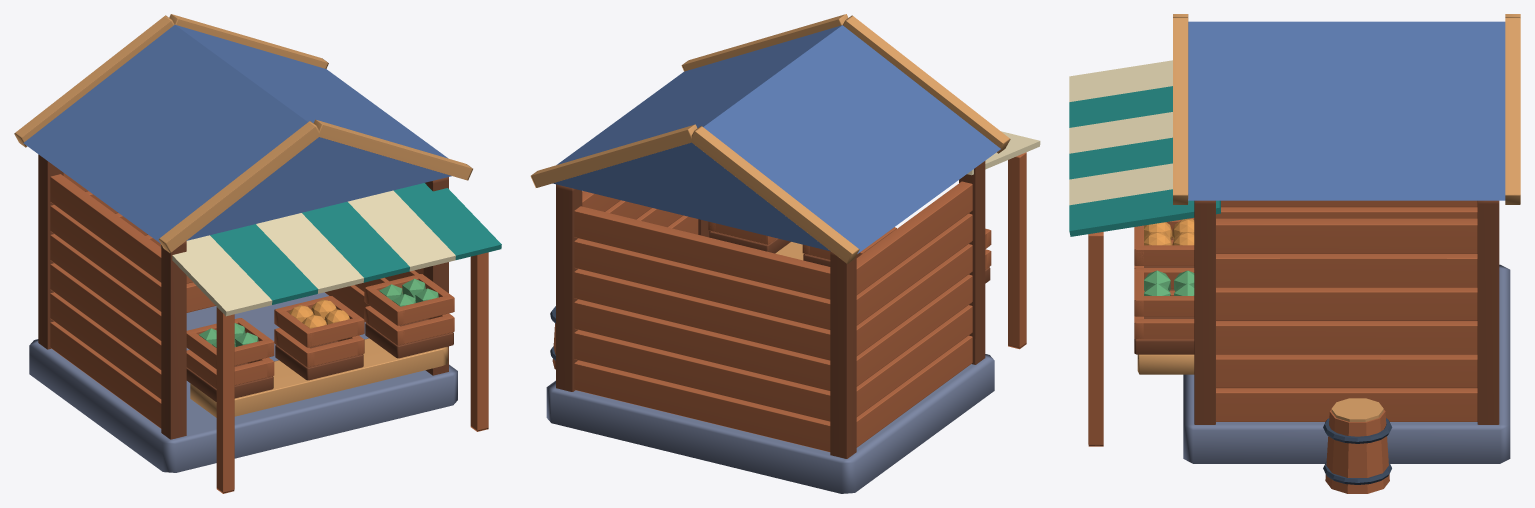
Rendered from provision-store.glb.
3 views of the same model, side by side, from view 1: azimuth 30°, elevation 25°; view 2: azimuth 150°, elevation 25°; view 3: azimuth 270°, elevation 25° (orthographic). The views are drawn at different scales.
Visible parts, largest first — view 1: Pitched roof, Foundation, Market counter, Corner timber, Striped canvas awning, Side planking.005, Striped canvas awning.004, Striped canvas awning.003, Striped canvas awning.001, Striped canvas awning.002, Striped canvas awning.005, Roof trim (+29 smaller); view 2: Pitched roof, Foundation, Rear planking.005, Rear planking, Rear planking.001, Rear planking.003, Rear planking.004, Rear planking.002, Corner timber.001, Side planking.005, Corner timber.003, Roof trim.002 (+13 smaller); view 3: Pitched roof, Foundation, Side planking.011, Side planking.007, Side planking.009, Side planking.008, Side planking.010, Side planking.006, Corner timber.003, Corner timber.002, Striped canvas awning.005, Barrel staves (+18 smaller).
Part boxes in pixels (<box>): Pitched roof: <box>23,24,451,243</box>; Foundation: <box>29,292,457,472</box>; Market counter: <box>190,338,448,417</box>; Corner timber: <box>161,241,186,439</box>; Striped canvas awning: <box>160,235,272,316</box>; Side planking.005: <box>50,174,161,282</box>; Striped canvas awning.004: <box>348,190,455,271</box>; Striped canvas awning.003: <box>302,201,409,282</box>; Striped canvas awning.001: <box>210,224,318,304</box>; Striped canvas awning.002: <box>256,213,363,293</box>; Striped canvas awning.005: <box>393,183,501,259</box>; Roof trim: <box>158,121,319,252</box>; Pitched roof: <box>552,25,1000,253</box>; Foundation: <box>546,354,994,493</box>; Rear planking.005: <box>574,206,830,299</box>; Rear planking: <box>574,360,830,452</box>; Rear planking.001: <box>574,330,830,421</box>; Rear planking.003: <box>574,269,830,360</box>; Rear planking.004: <box>574,238,830,330</box>; Rear planking.002: <box>574,299,830,391</box>; Corner timber.001: <box>830,251,856,458</box>; Side planking.005: <box>856,181,972,294</box>; Corner timber.003: <box>556,184,582,391</box>; Roof trim.002: <box>690,126,859,263</box>; Pitched roof: <box>1188,21,1505,200</box>; Foundation: <box>1183,264,1510,463</box>; Side planking.011: <box>1216,218,1477,253</box>; Side planking.007: <box>1216,354,1477,388</box>; Side planking.009: <box>1216,287,1477,321</box>; Side planking.008: <box>1216,321,1477,354</box>; Side planking.010: <box>1216,254,1477,287</box>; Side planking.006: <box>1216,388,1477,421</box>; Corner timber.003: <box>1477,200,1499,424</box>; Corner timber.002: <box>1194,200,1215,424</box>; Striped canvas awning.005: <box>1069,189,1220,236</box>; Barrel staves: <box>1325,409,1389,493</box>.
Bounding box in the file's own units: 4.35 × 3.71 × 4.14.
